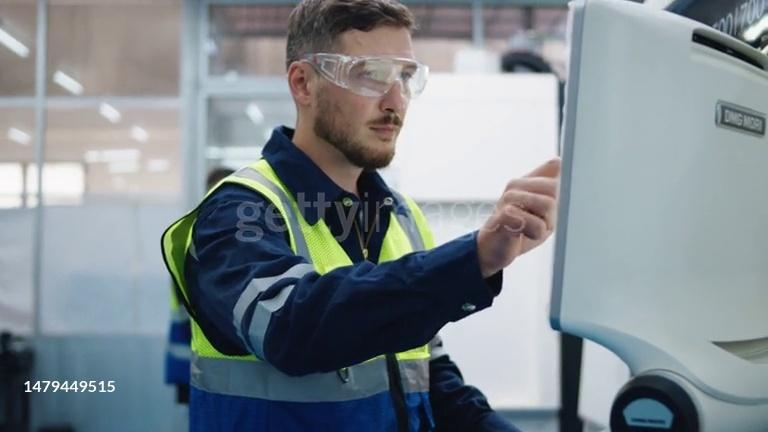person: (161, 1, 563, 432)
